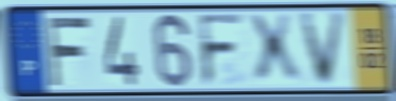4: (103, 14, 141, 88)
6: (151, 11, 194, 90)
F: (196, 12, 248, 89), (43, 15, 93, 89)
V: (297, 10, 350, 89)
X: (244, 12, 304, 88)
